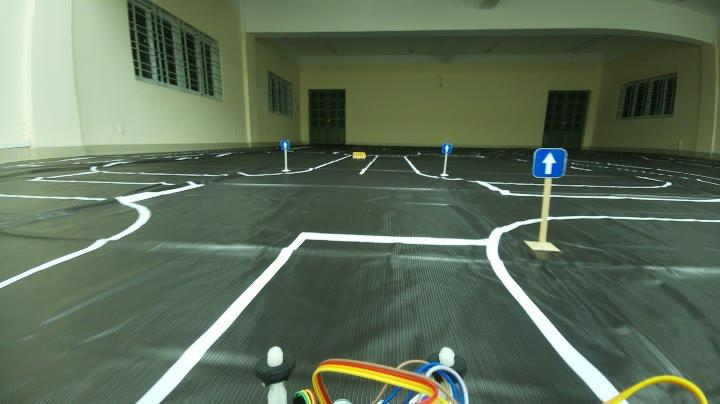onewayroad: (528, 143, 571, 176), (440, 140, 452, 158), (278, 138, 290, 148)
roadblock: (350, 149, 368, 161)
